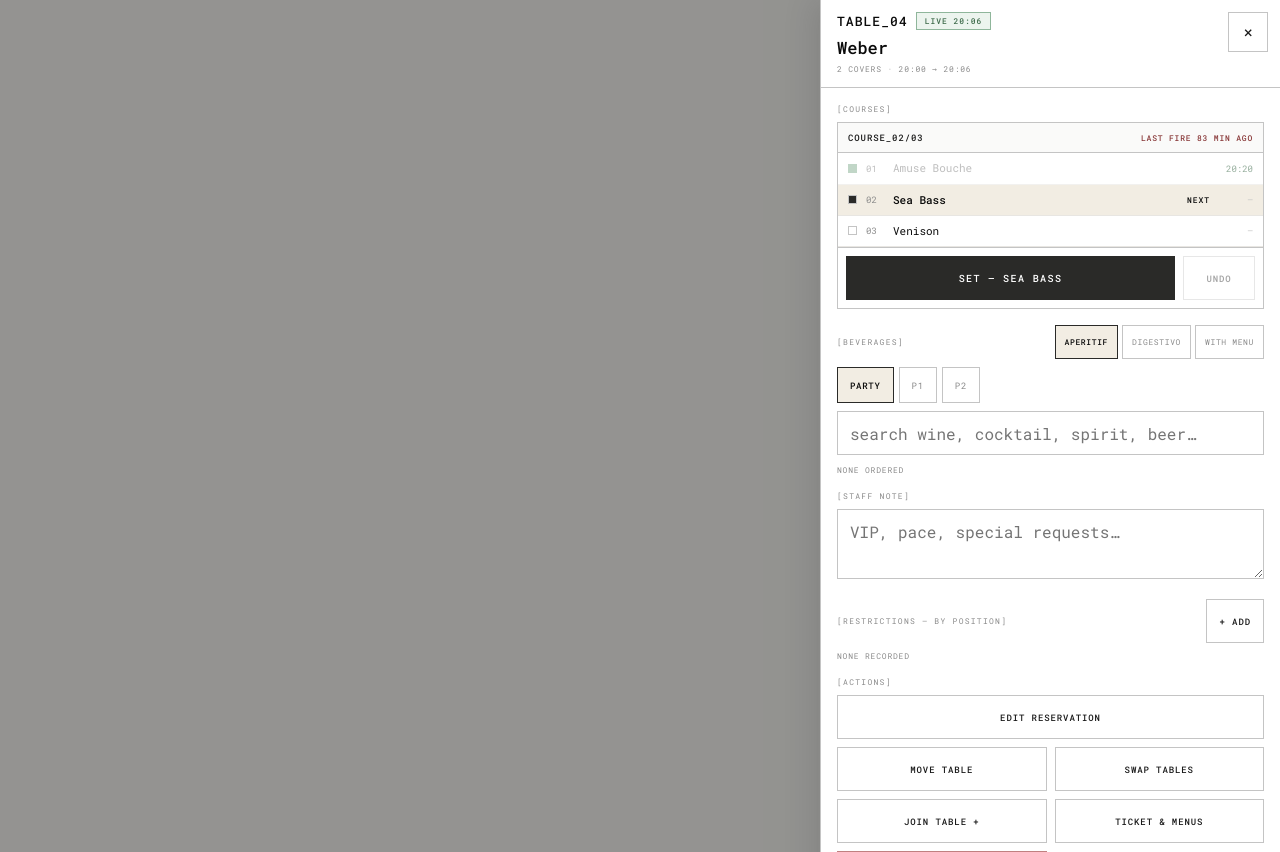
TableSheet — beverages › waits for two characters before offering matches
Type "r" into the field named "Search beverages". click: (1050, 433)
box: 837,411 -> 1264,455
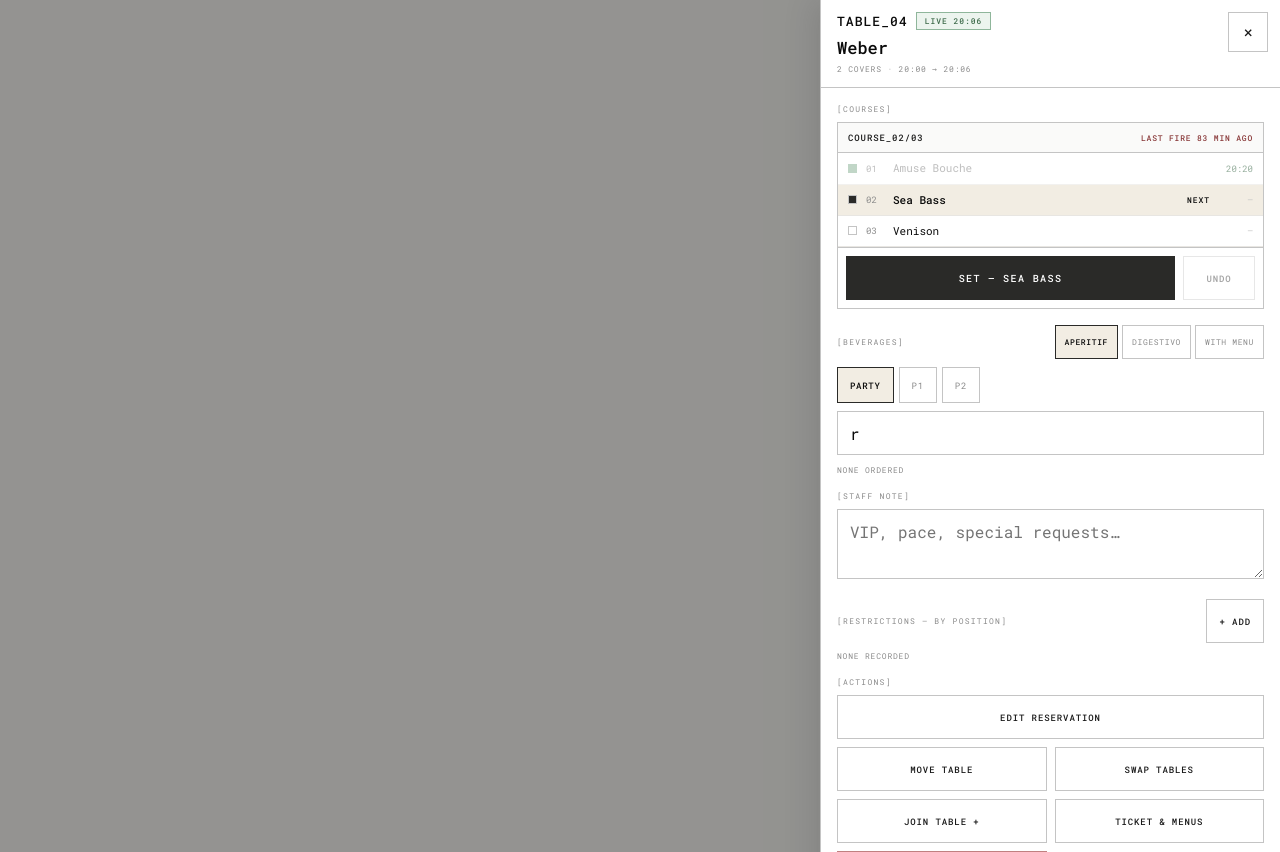
Expected: the text "GLASS" is not shown
Replace the text in the field named "Search beverages" with "reb". click: (1050, 433)
box: 837,411 -> 1264,455
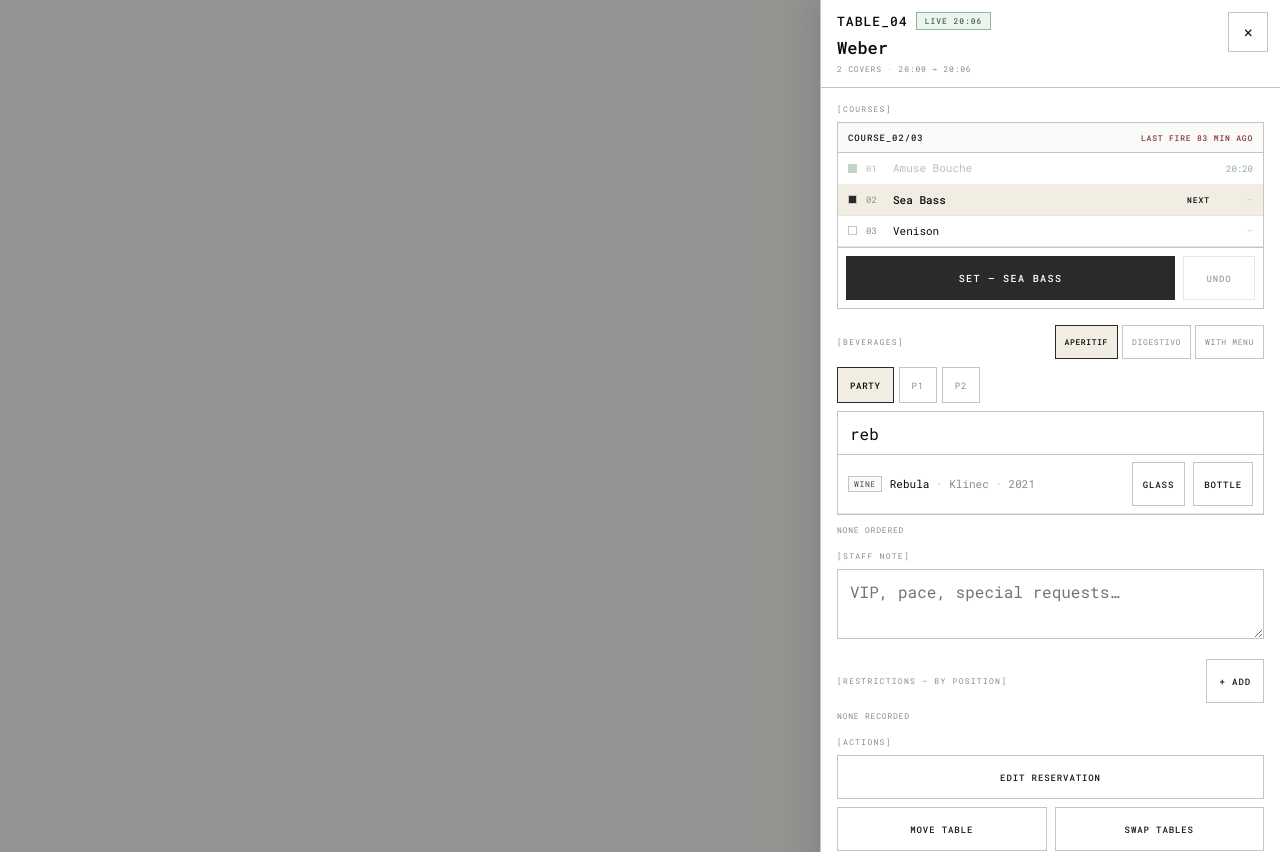
Result: the button "GLASS" is shown at 1132,462 -> 1185,506
Result: the button "BOTTLE" is shown at 1193,462 -> 1253,506
